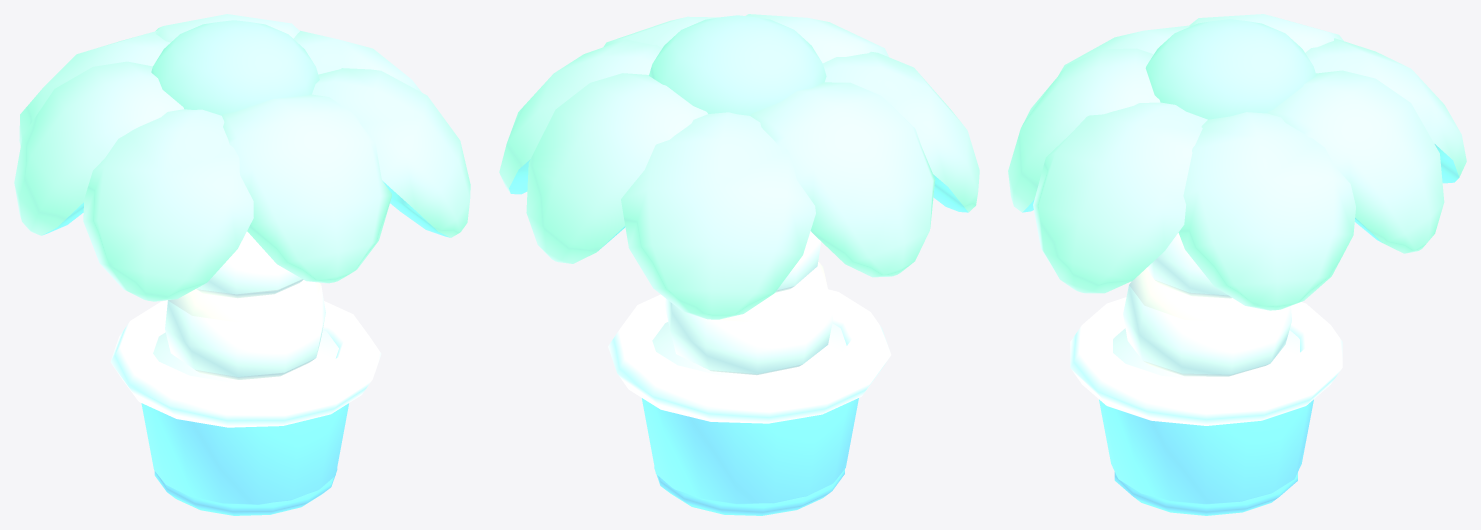
Rendered from props__PalmPlanter.glb.
3 views of the same model, side by side, from view 1: azimuth 30°, elevation 25°; view 2: azimuth 150°, elevation 25°; view 3: azimuth 270°, elevation 25° (orthographic). The views are drawn at different scales.
Parts seen in each view (by area): view 1: PalmPlanter; view 2: PalmPlanter; view 3: PalmPlanter.
Part boxes in pixels (x1,y1,x2,y2): PalmPlanter: (14, 14, 470, 515); PalmPlanter: (499, 14, 979, 515); PalmPlanter: (1008, 14, 1466, 515).
Size of the model in its own units: 7.33 by 7.97 by 7.33.
